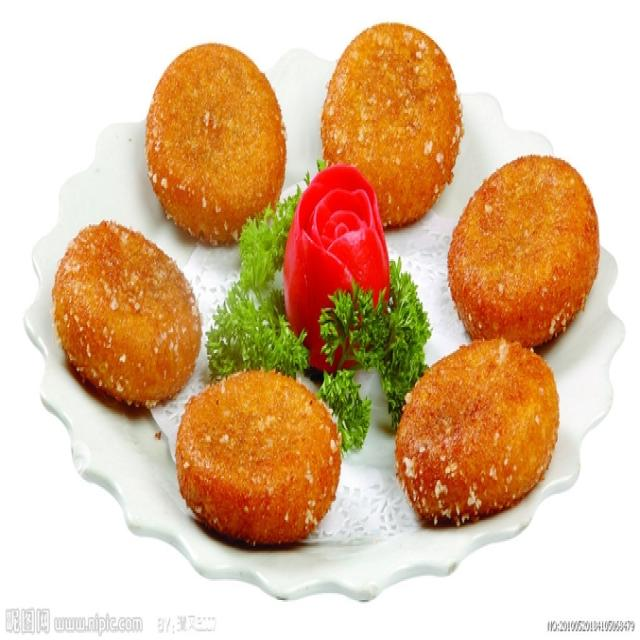炸货点心: (40, 21, 615, 588)
蛋糕甜品: (40, 21, 615, 588)
